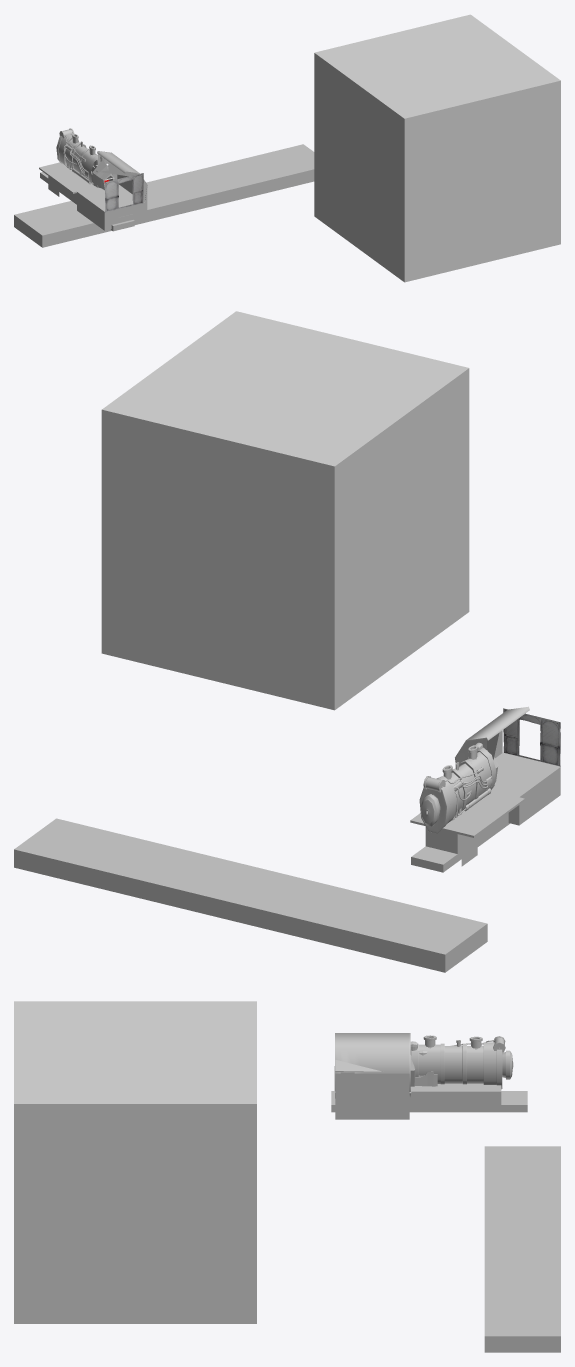
File: Train12.fbx
3 views of the same model, one above another, from view 1: azimuth 30°, elevation 25°; view 2: azimuth 150°, elevation 25°; view 3: azimuth 270°, elevation 25° (orthographic). The views are drawn at different scales.
Parts seen in each view (by area): view 1: Cube.004, Cube.003, Cube, BezierCurve, SideWall.001, Cube.001, Plane.001, Cube.005, Cube.002, BezierCurve.011; view 2: Cube.004, Cube.003, BezierCurve, Cube.002, Cube.001, Plane.001, Cube, SideWall.001, BezierCurve.011; view 3: Cube.004, Cube.003, Cube, BezierCurve, BezierCurve.011, Cube.002, Cube.001, Cube.005.
Part boxes in pixels (bbox=[...]): Cube.004: bbox=[314, 14, 560, 282]; Cube.003: bbox=[14, 144, 314, 247]; Cube: bbox=[77, 163, 147, 230]; BezierCurve: bbox=[56, 133, 97, 185]; SideWall.001: bbox=[105, 173, 143, 212]; Cube.001: bbox=[39, 162, 94, 193]; Plane.001: bbox=[76, 184, 144, 211]; Cube.005: bbox=[91, 156, 114, 190]; Cube.002: bbox=[40, 172, 134, 231]; BezierCurve.011: bbox=[97, 151, 147, 217]; Cube.004: bbox=[101, 311, 469, 710]; Cube.003: bbox=[14, 818, 487, 972]; BezierCurve: bbox=[419, 747, 495, 833]; Cube.002: bbox=[411, 813, 509, 872]; Cube.001: bbox=[410, 791, 524, 837]; Plane.001: bbox=[491, 752, 560, 797]; Cube: bbox=[455, 730, 560, 825]; SideWall.001: bbox=[503, 708, 560, 766]; BezierCurve.011: bbox=[455, 706, 529, 762]; Cube.004: bbox=[14, 1001, 256, 1323]; Cube.003: bbox=[484, 1146, 560, 1352]; Cube: bbox=[335, 1060, 409, 1119]; BezierCurve: bbox=[411, 1042, 513, 1089]; BezierCurve.011: bbox=[335, 1033, 410, 1097]; Cube.002: bbox=[331, 1091, 527, 1112]; Cube.001: bbox=[409, 1083, 501, 1093]; Cube.005: bbox=[410, 1041, 437, 1086].
Bounding box in the file's own units: 1784 × 1049 × 1829.
